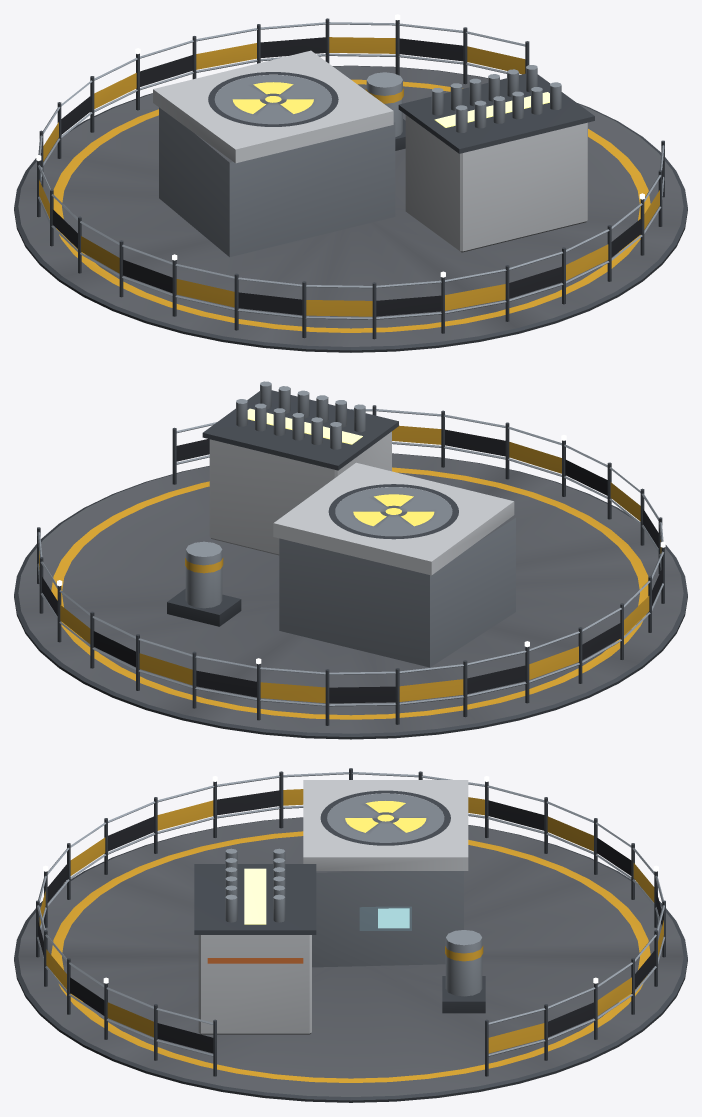
The model's file is fuel_rod_plant.glb.
The picture shows the model from 3 angles, top to bottom: view 1: azimuth 30°, elevation 25°; view 2: azimuth 150°, elevation 25°; view 3: azimuth 270°, elevation 25°; orthographic projection.
Visible parts, largest first — view 1: Base, Roof, Lights; view 2: Base, Roof, Lights; view 3: Base, Roof, Lights.
Part boxes in pixels (x1=…): Base: x1=14, y1=18, x2=687, y2=352; Roof: x1=153, y1=50, x2=594, y2=163; Lights: x1=36, y1=14, x2=644, y2=277; Base: x1=14, y1=405, x2=687, y2=739; Roof: x1=202, y1=381, x2=514, y2=575; Lights: x1=57, y1=408, x2=665, y2=664; Base: x1=14, y1=768, x2=687, y2=1102; Roof: x1=194, y1=780, x2=468, y2=934; Lights: x1=43, y1=776, x2=658, y2=983.
Bounding box in the file's own units: 15.5 × 3.4 × 15.5.
